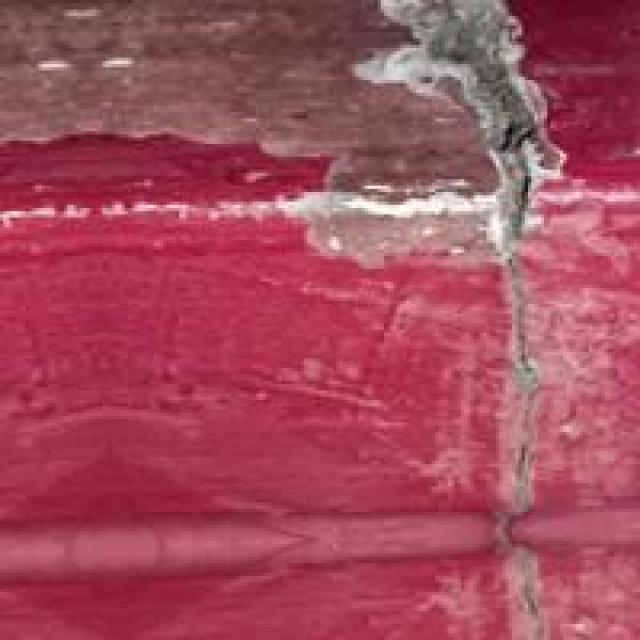crack: (323, 6, 627, 628)
